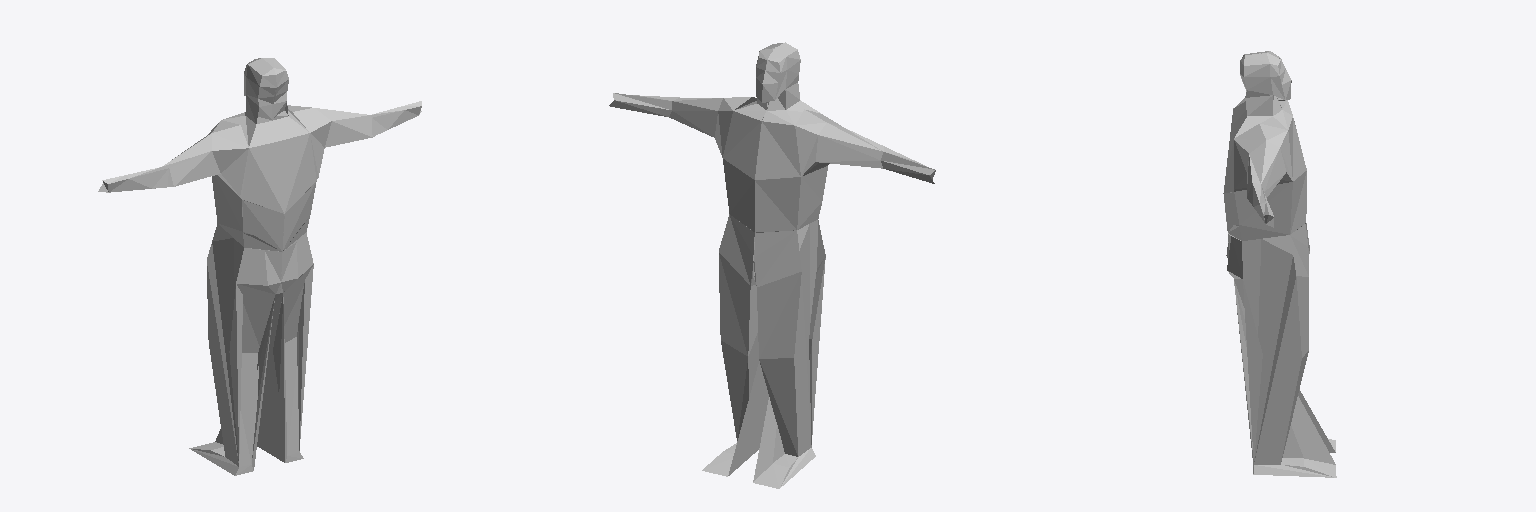
The model's file is player_stading.OBJ.
3 views of the same model, side by side, from view 1: azimuth 30°, elevation 25°; view 2: azimuth 150°, elevation 25°; view 3: azimuth 270°, elevation 25° (orthographic).
Visible parts, largest first — view 1: mesh_0; view 2: mesh_0; view 3: mesh_0.
Part boxes in pixels (x1,y1,x2,y2): mesh_0: (98, 58, 421, 475); mesh_0: (609, 42, 935, 488); mesh_0: (1223, 51, 1336, 477).
Size of the model in its own units: 2.45 by 2.92 by 0.7368.